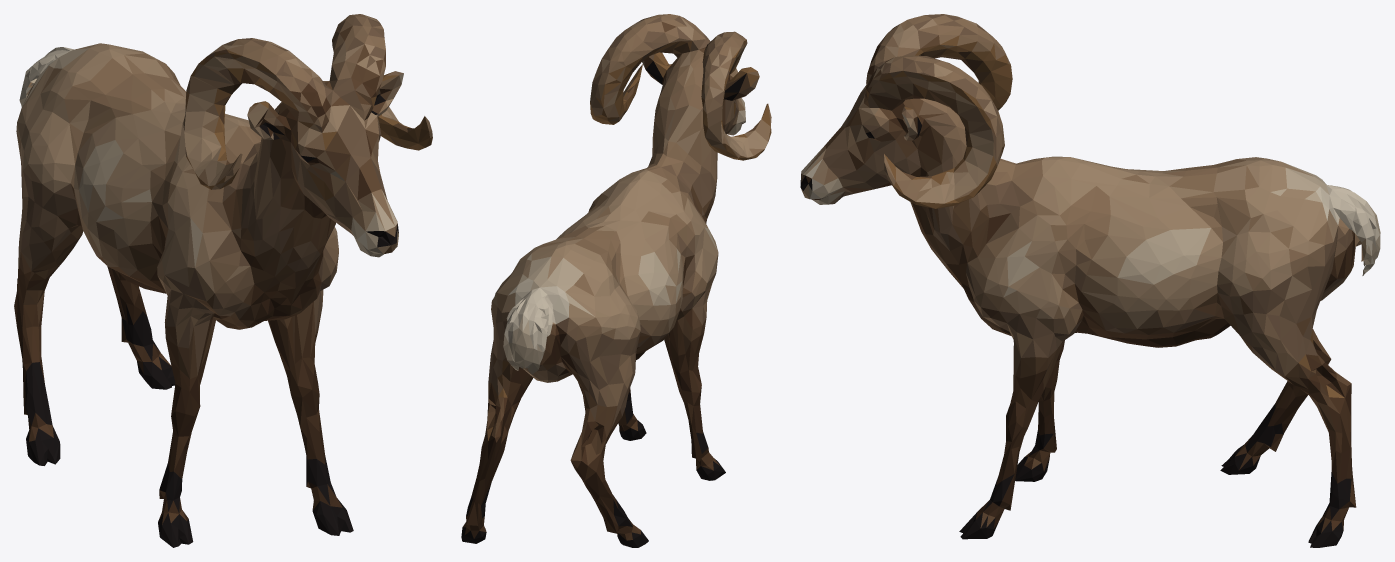
File: ovis_canadensis.glb
3 views of the same model, side by side, from view 1: azimuth 30°, elevation 25°; view 2: azimuth 150°, elevation 25°; view 3: azimuth 270°, elevation 25° (orthographic). The views are drawn at different scales.
Visible parts, largest first — view 1: lod0; view 2: lod0; view 3: lod0.
Boxes of the visible parts, x1=… form: lod0: x1=14, y1=14, x2=432, y2=547; lod0: x1=461, y1=14, x2=771, y2=547; lod0: x1=800, y1=14, x2=1380, y2=547.
Size of what is drawn, in the model's own units: 0.4439 by 1.03 by 1.14.
